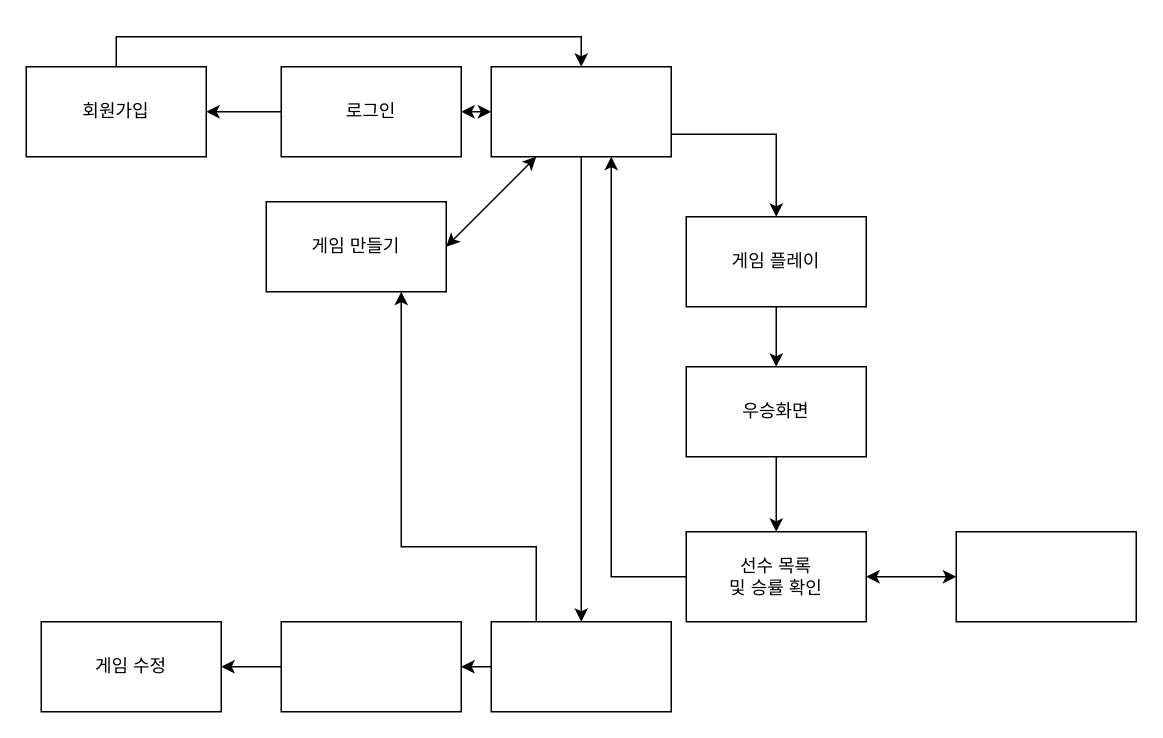
Some shapes in this 1163 by 738 pixel diagram are drawn without their labels. Here are the shapes that lost their labels. From the top down, the centre of each, then its label:
At (580,111): "게임 목록".
At (1045,576): "선수 개인 화면 (모달도 가능)".
At (370,666): "만든 게임 리스트".
At (580,666): "마이페이지".
